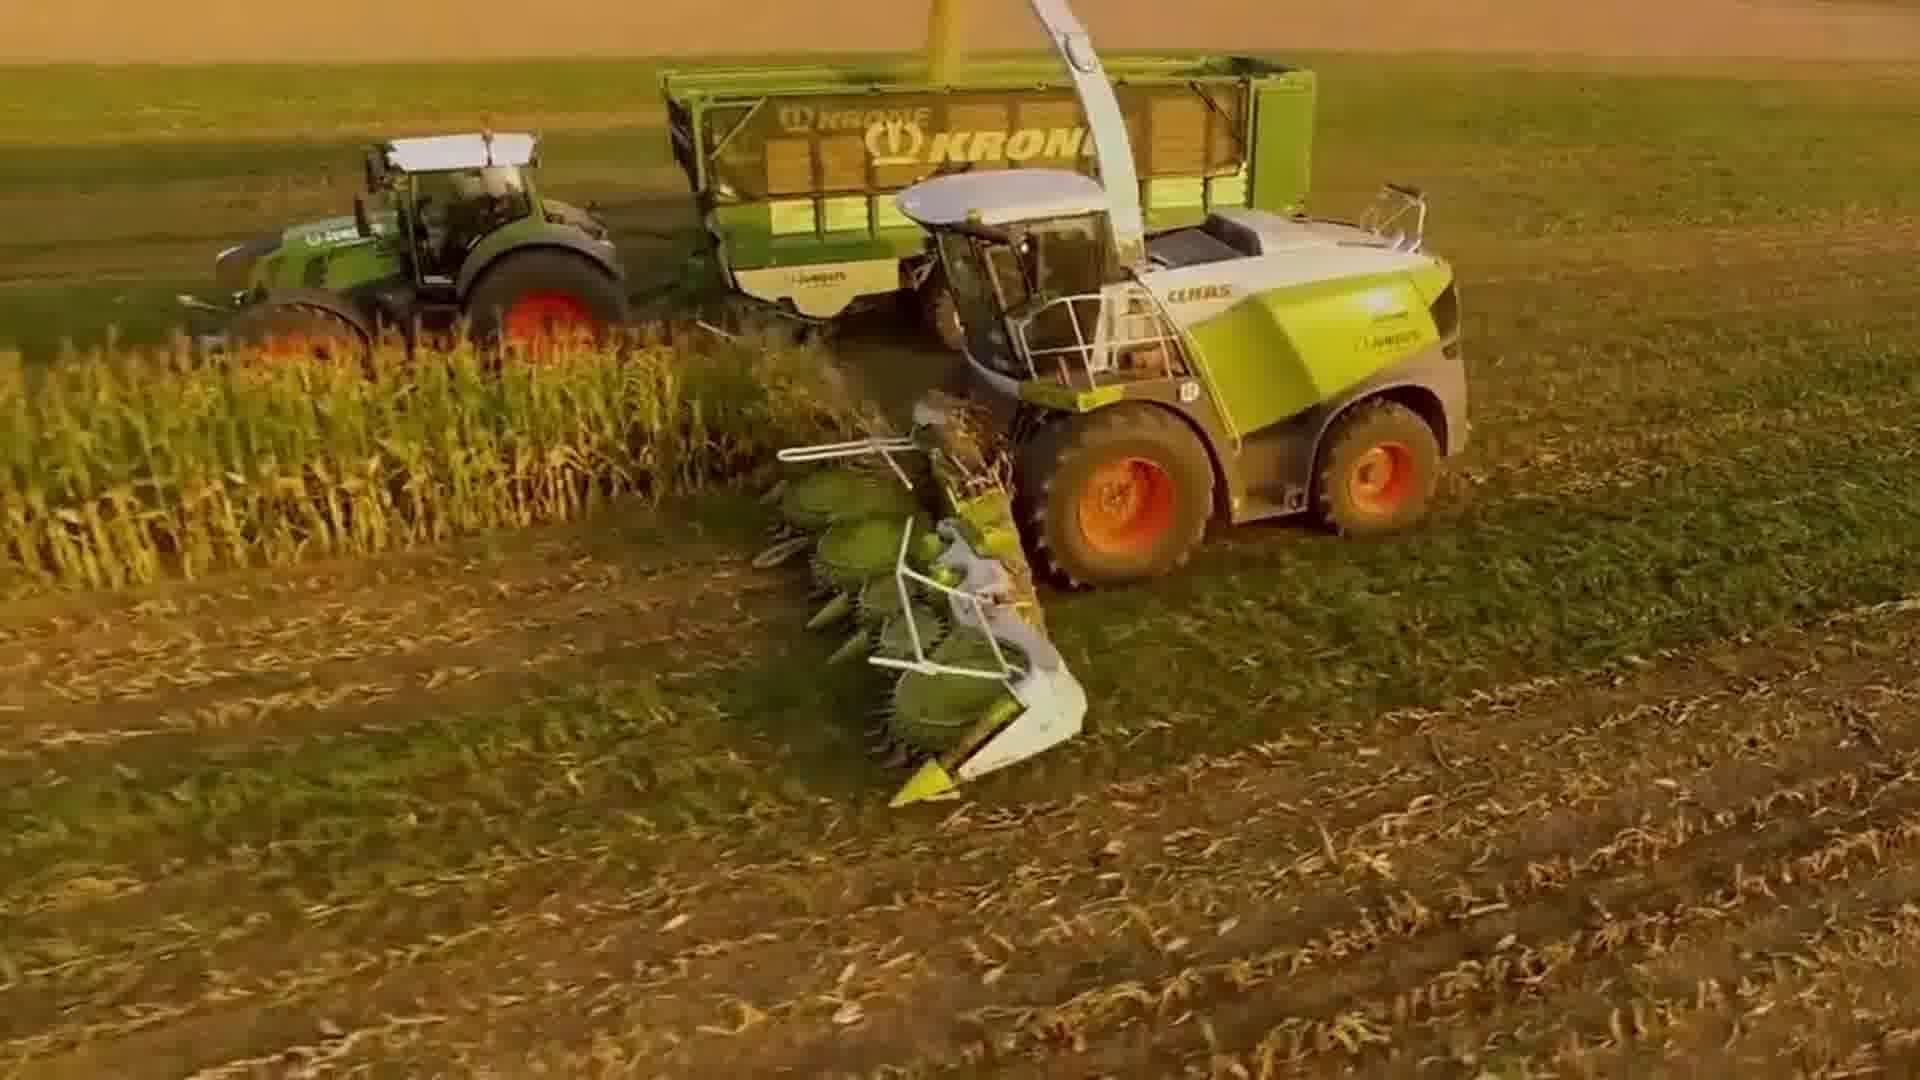combine harvester: (759, 0, 1480, 816)
tractor: (196, 120, 639, 391)
trailer: (659, 43, 1320, 354)
